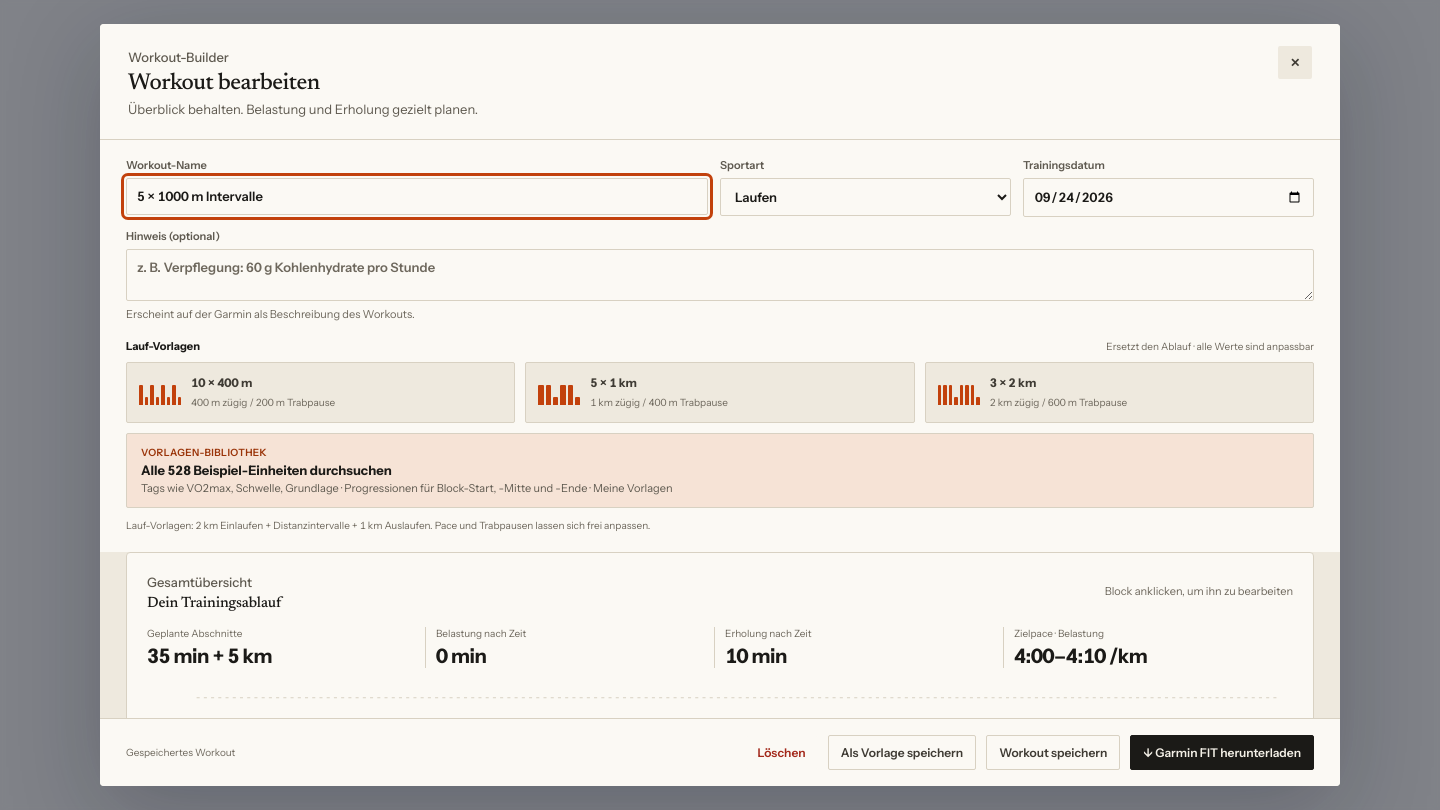
export downloads actual response bytes and uses current unsaved edits
Type "2026-09-25" into the date field labelled "Trainingsdatum" at (1168, 197), box [1023,178,1314,217]
(page scrolled)
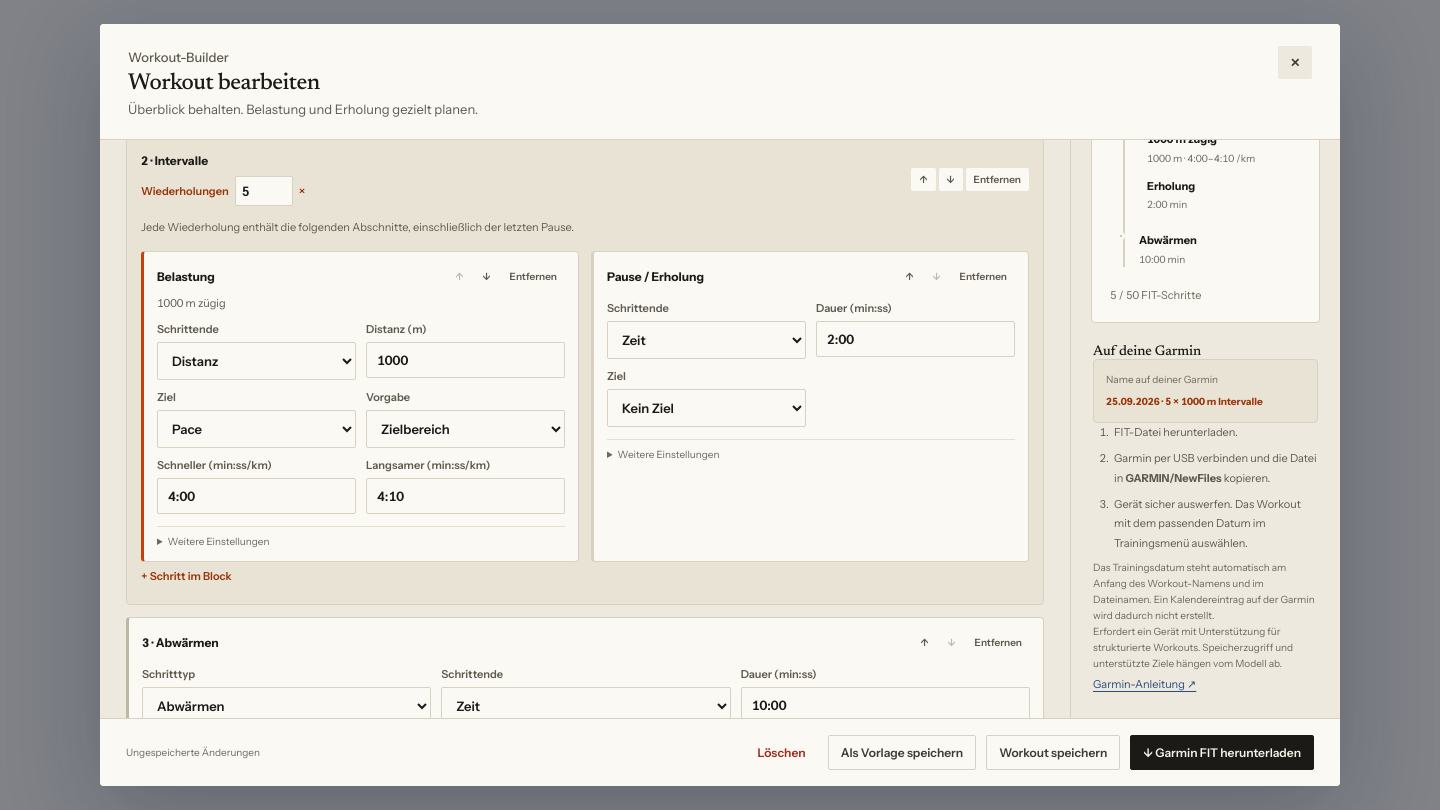
Result: the text "25.09.2026 · 5 × 1000 m Intervalle" is shown at [1106,395,1263,408]
Select "Leistung (Watt)" in the dropdown labelled "Ziel" below "Vorgabe" at (256, 429), box [157,410,356,448]
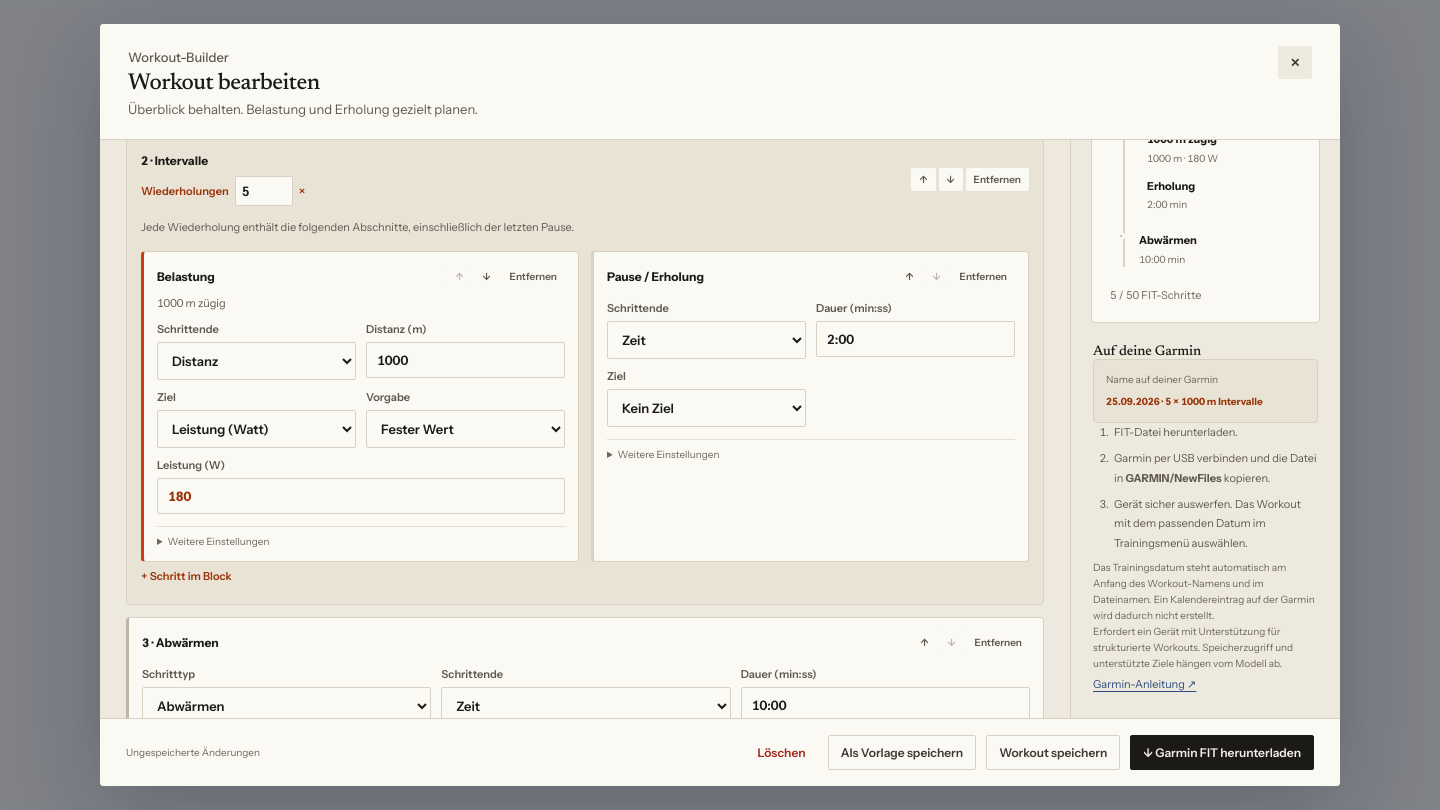
Click the button "↓ Garmin FIT herunterladen" at (1222, 752), box [1130,735,1314,770]
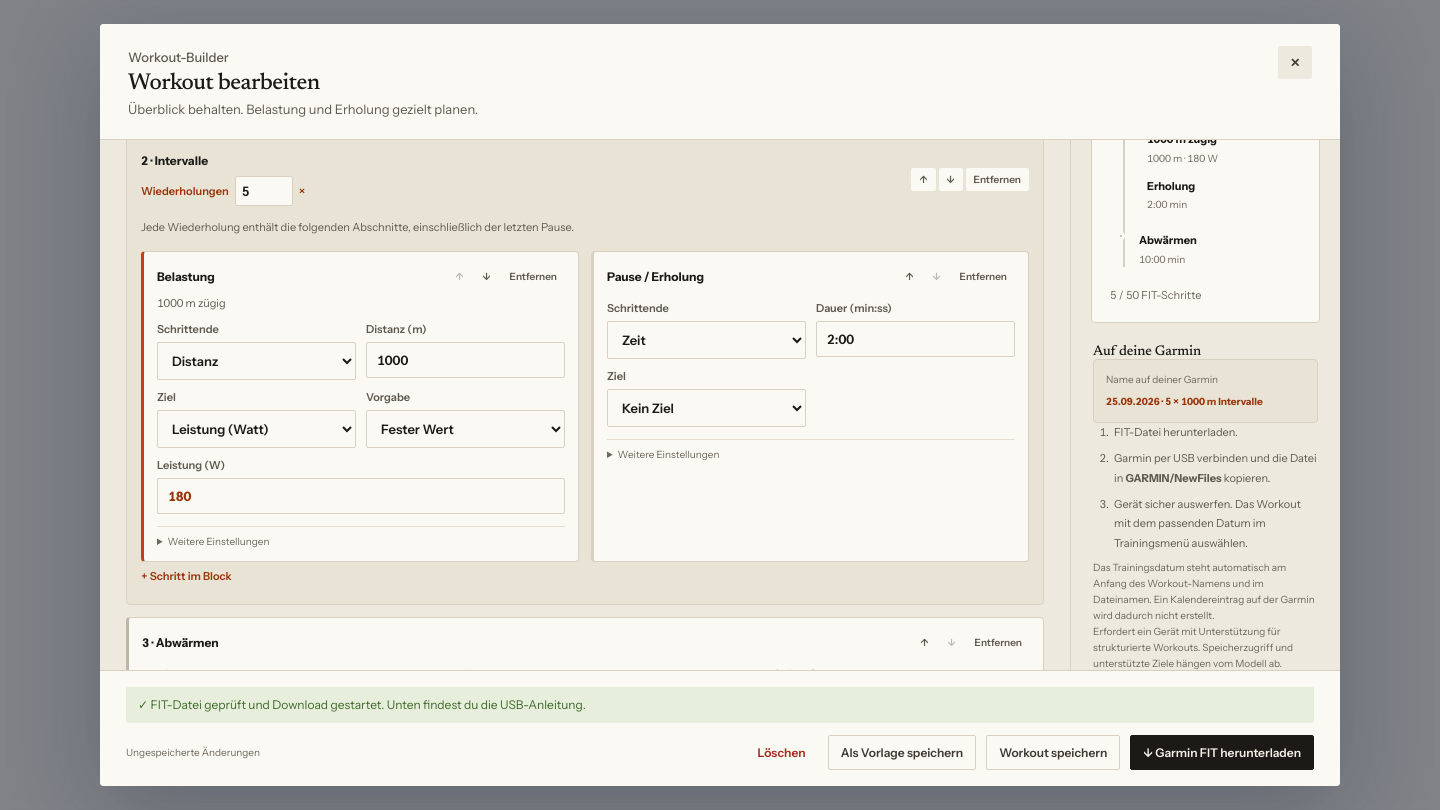
Result: the text "Ungespeicherte Änderungen" is shown at [126,746,260,759]
Result: the message shows "Download gestartet" at [150,697,586,712]
